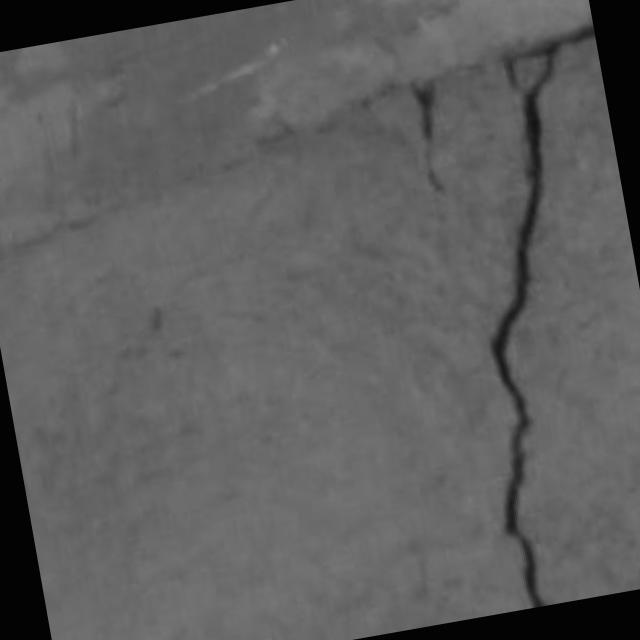crack: (490, 42, 559, 607), (411, 80, 443, 190)
